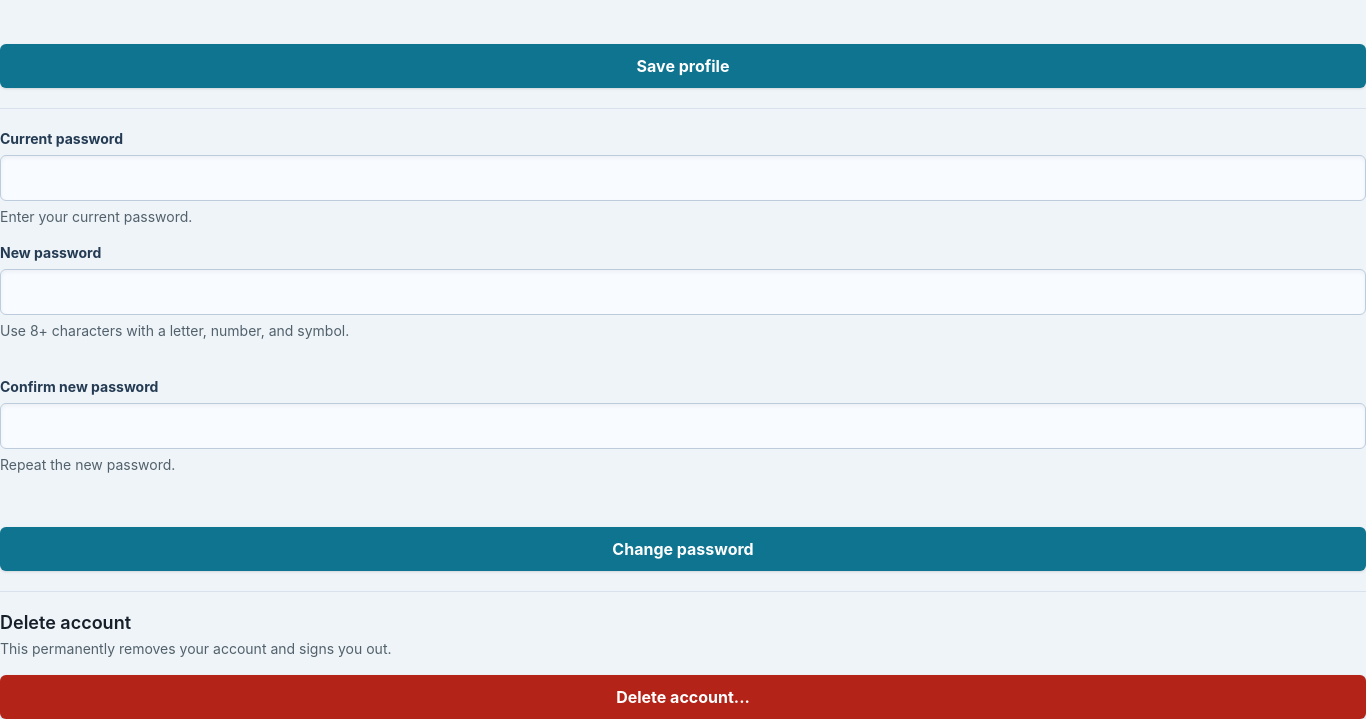
Test: AccountSettingsPanel › requires password and explicit confirmation before deleting the account
(page scrolled)
Click the button "Delete account..." at (683, 696), box [0,674,1365,718]
(page scrolled)
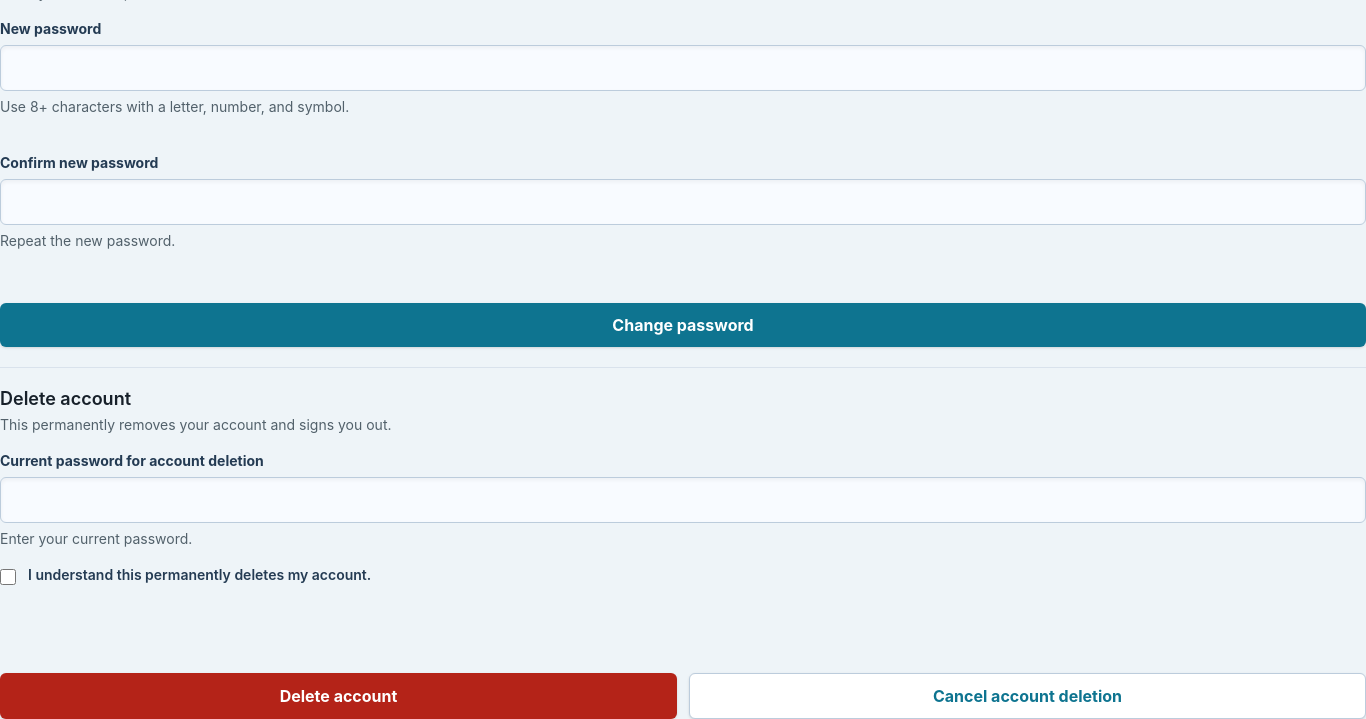
Click the button "Delete account" at (338, 696), box [0,672,677,718]
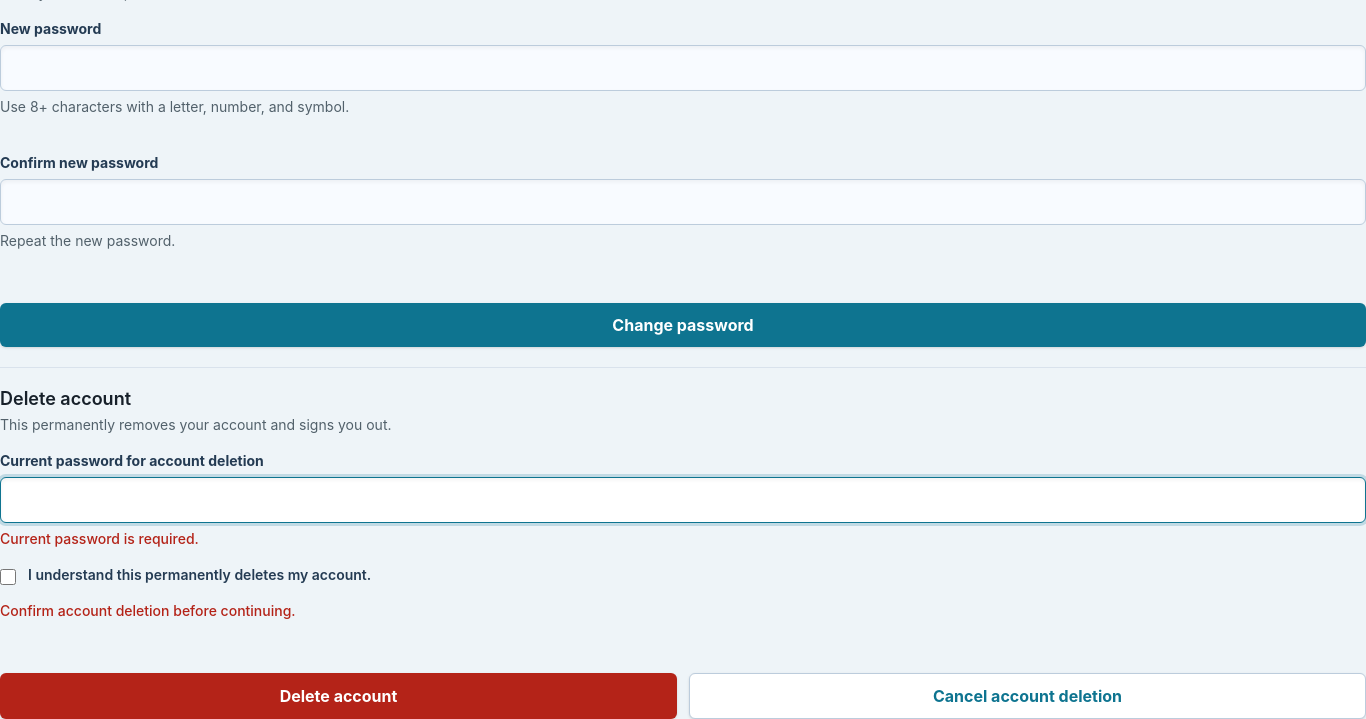
Check: the text "Current password is required." is shown, box [0,530,199,546]
Check: the text "Confirm account deletion before continuing." is shown, box [0,602,296,618]
